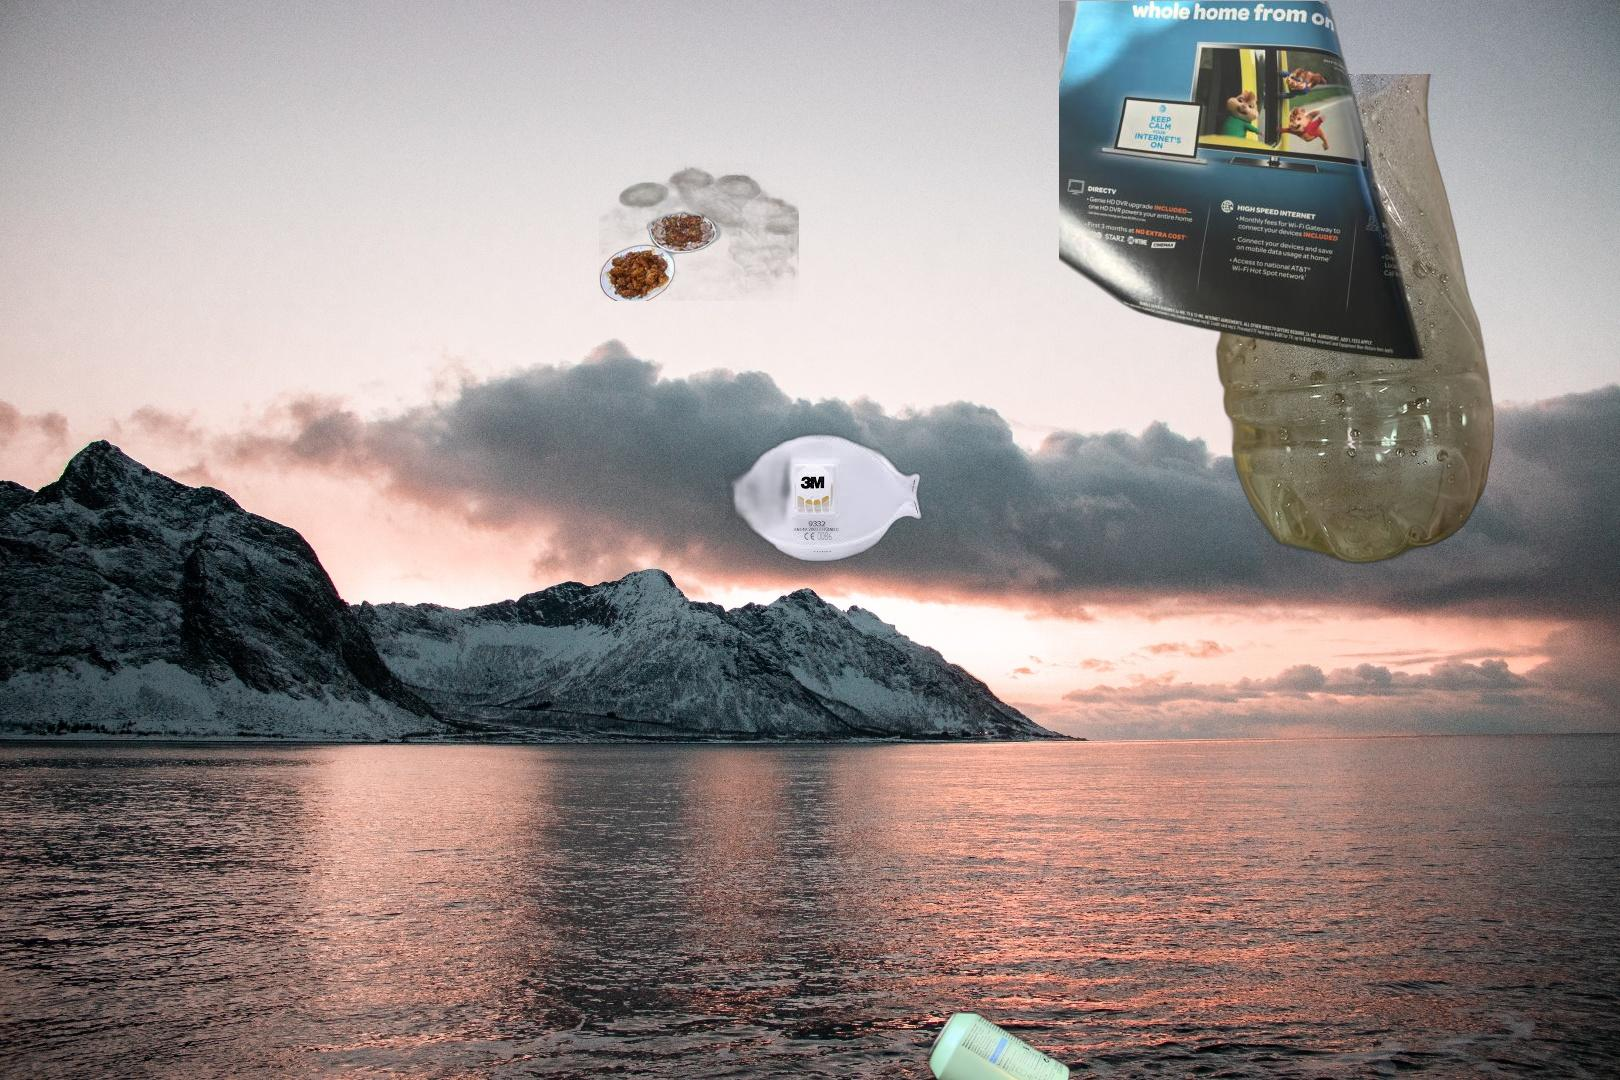biological: (599, 163, 799, 301)
metal-cans: (923, 1006, 1075, 1080)
paper: (1060, 1, 1427, 362)
plastic-bottles: (1195, 74, 1495, 586)
trash: (720, 352, 925, 599)
trashbox-cardboard: (1554, 102, 1620, 383)
